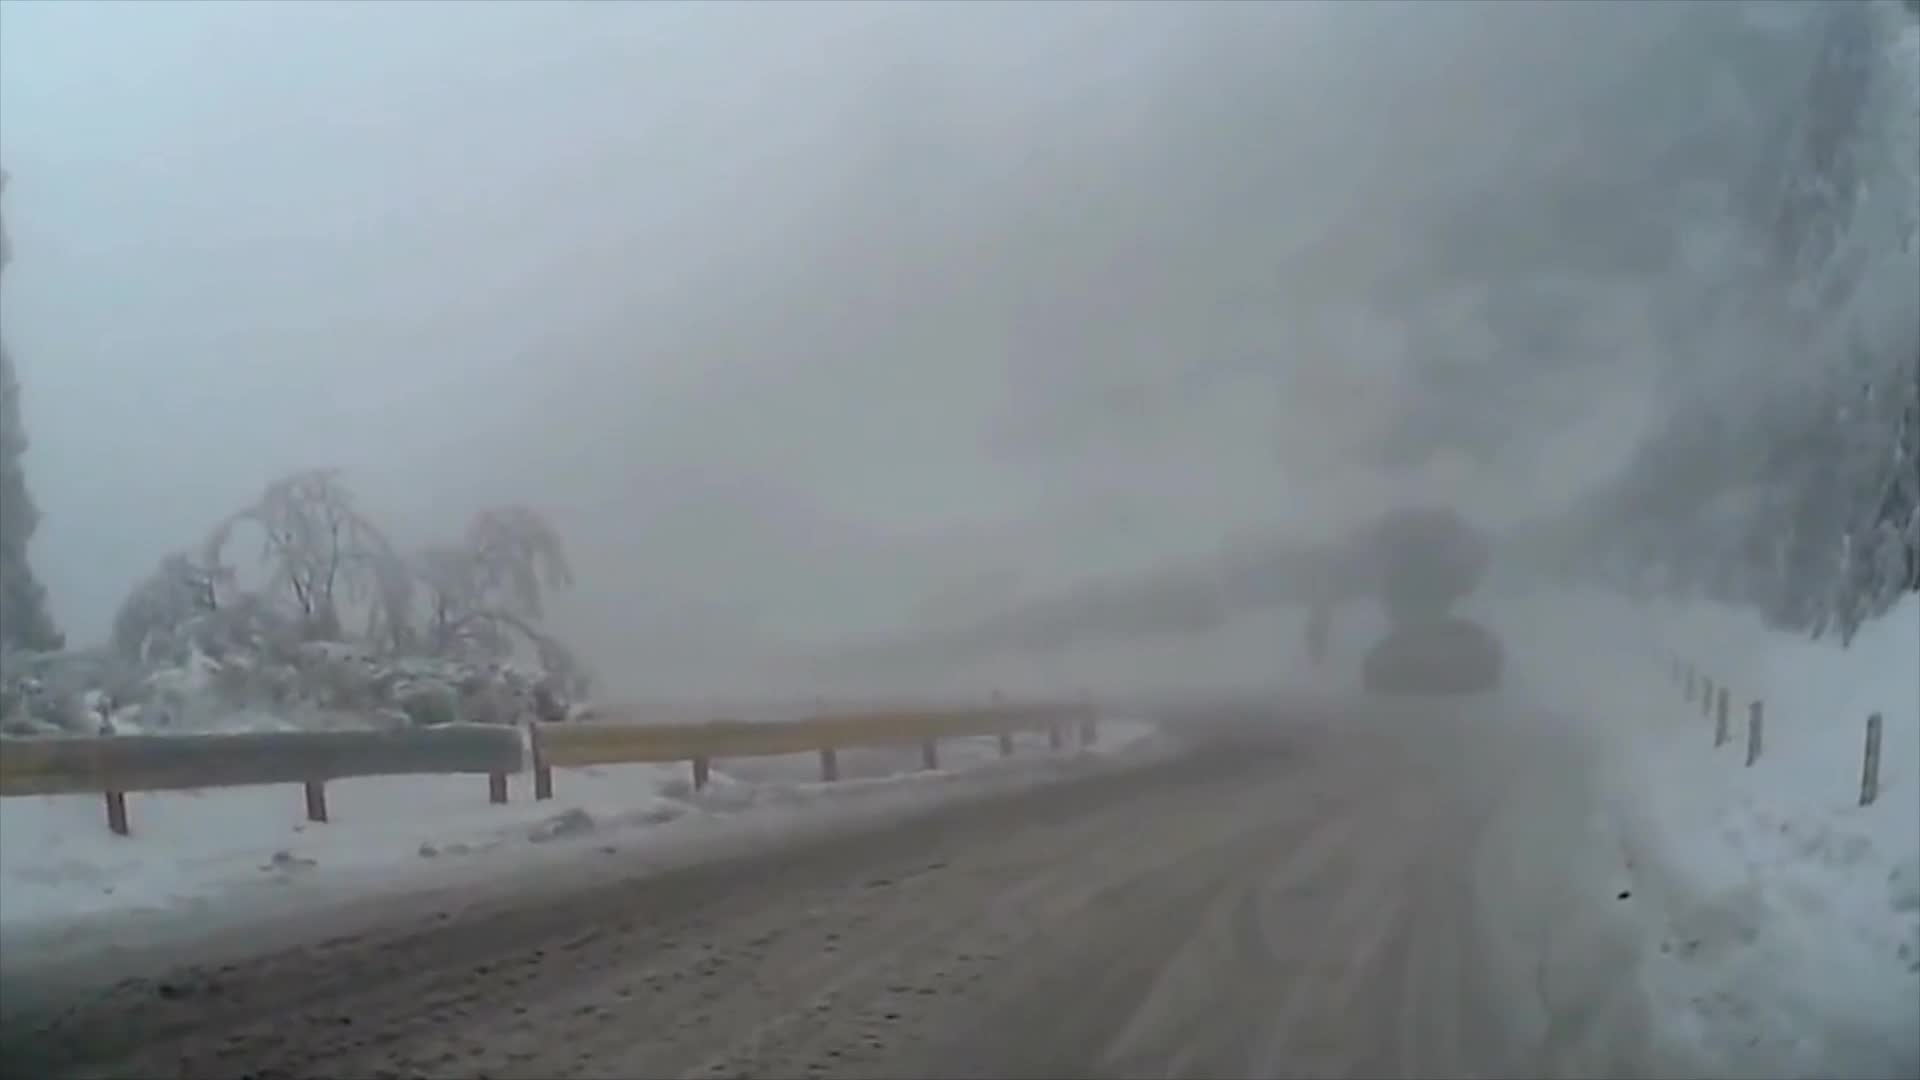vehicle: (1364, 622, 1505, 699)
